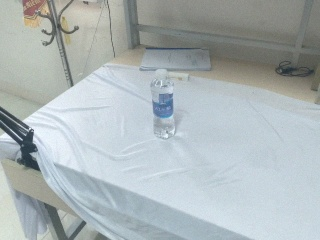bottle: (150, 69, 176, 140)
